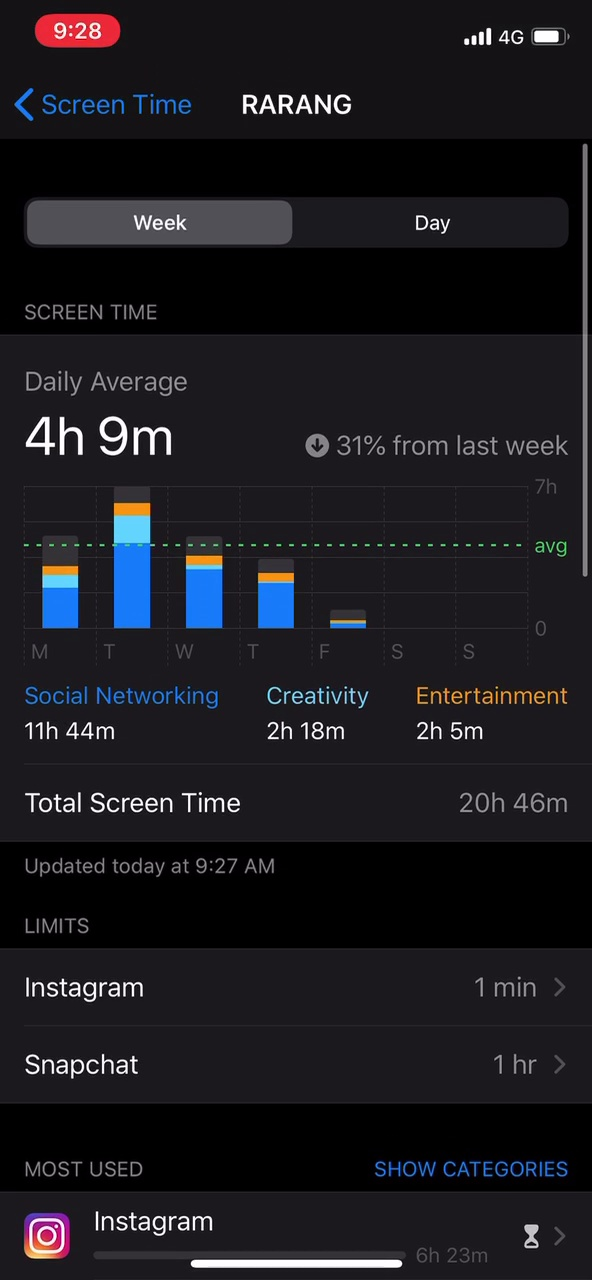use_over: (18, 682, 581, 830)
